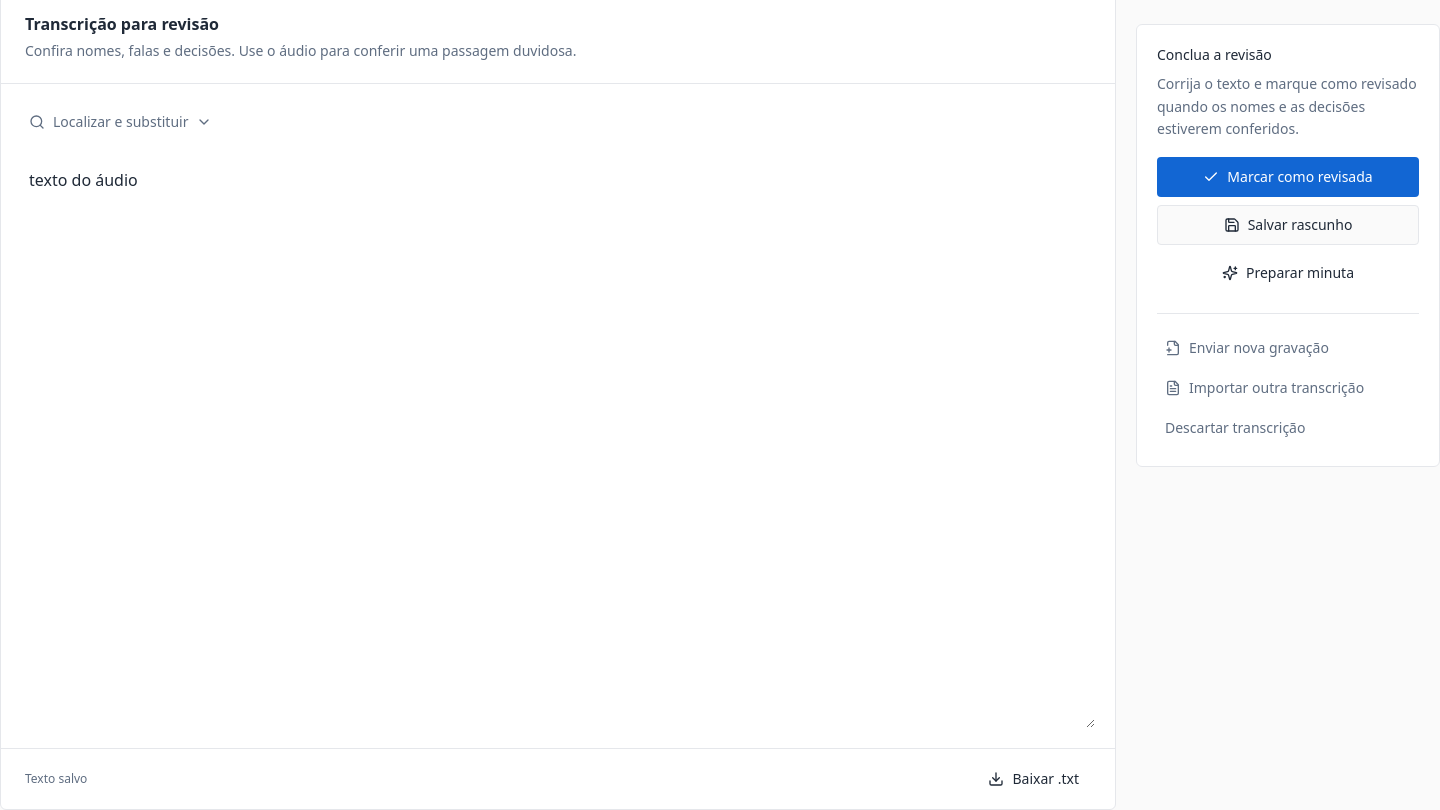
Test case: AtaTranscriptionPanel · workspace actions › saves dirty text before opening the minuta
Later steps or results of the test are not shown.
(page scrolled)
Replace the text in the text box named "Texto da transcrição" with "Nome corrigido e votação conferida." at (558, 440), box x1=21 y1=152 x2=1095 y2=728
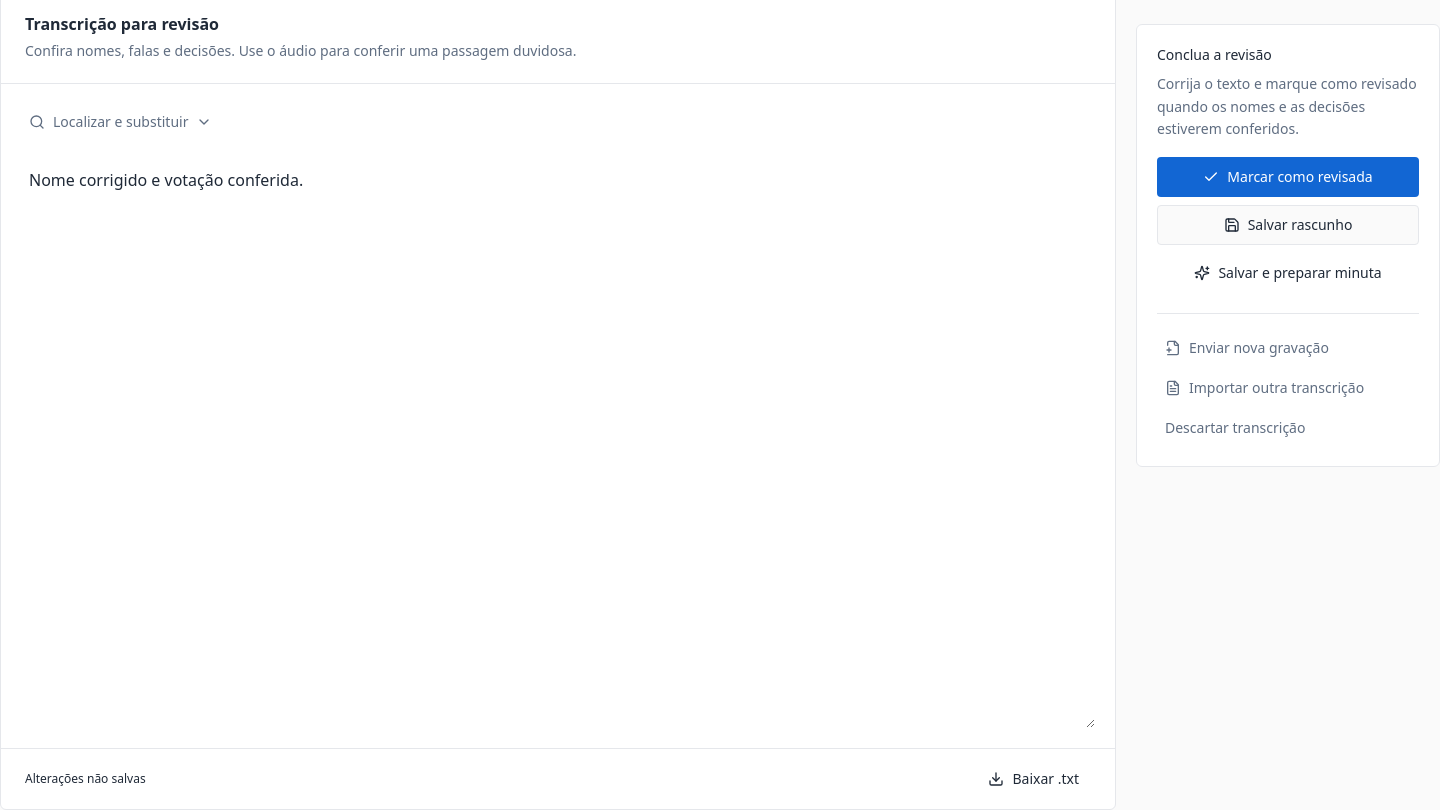
Result: the text "Alterações não salvas" is shown at x1=25 y1=770 x2=146 y2=786
